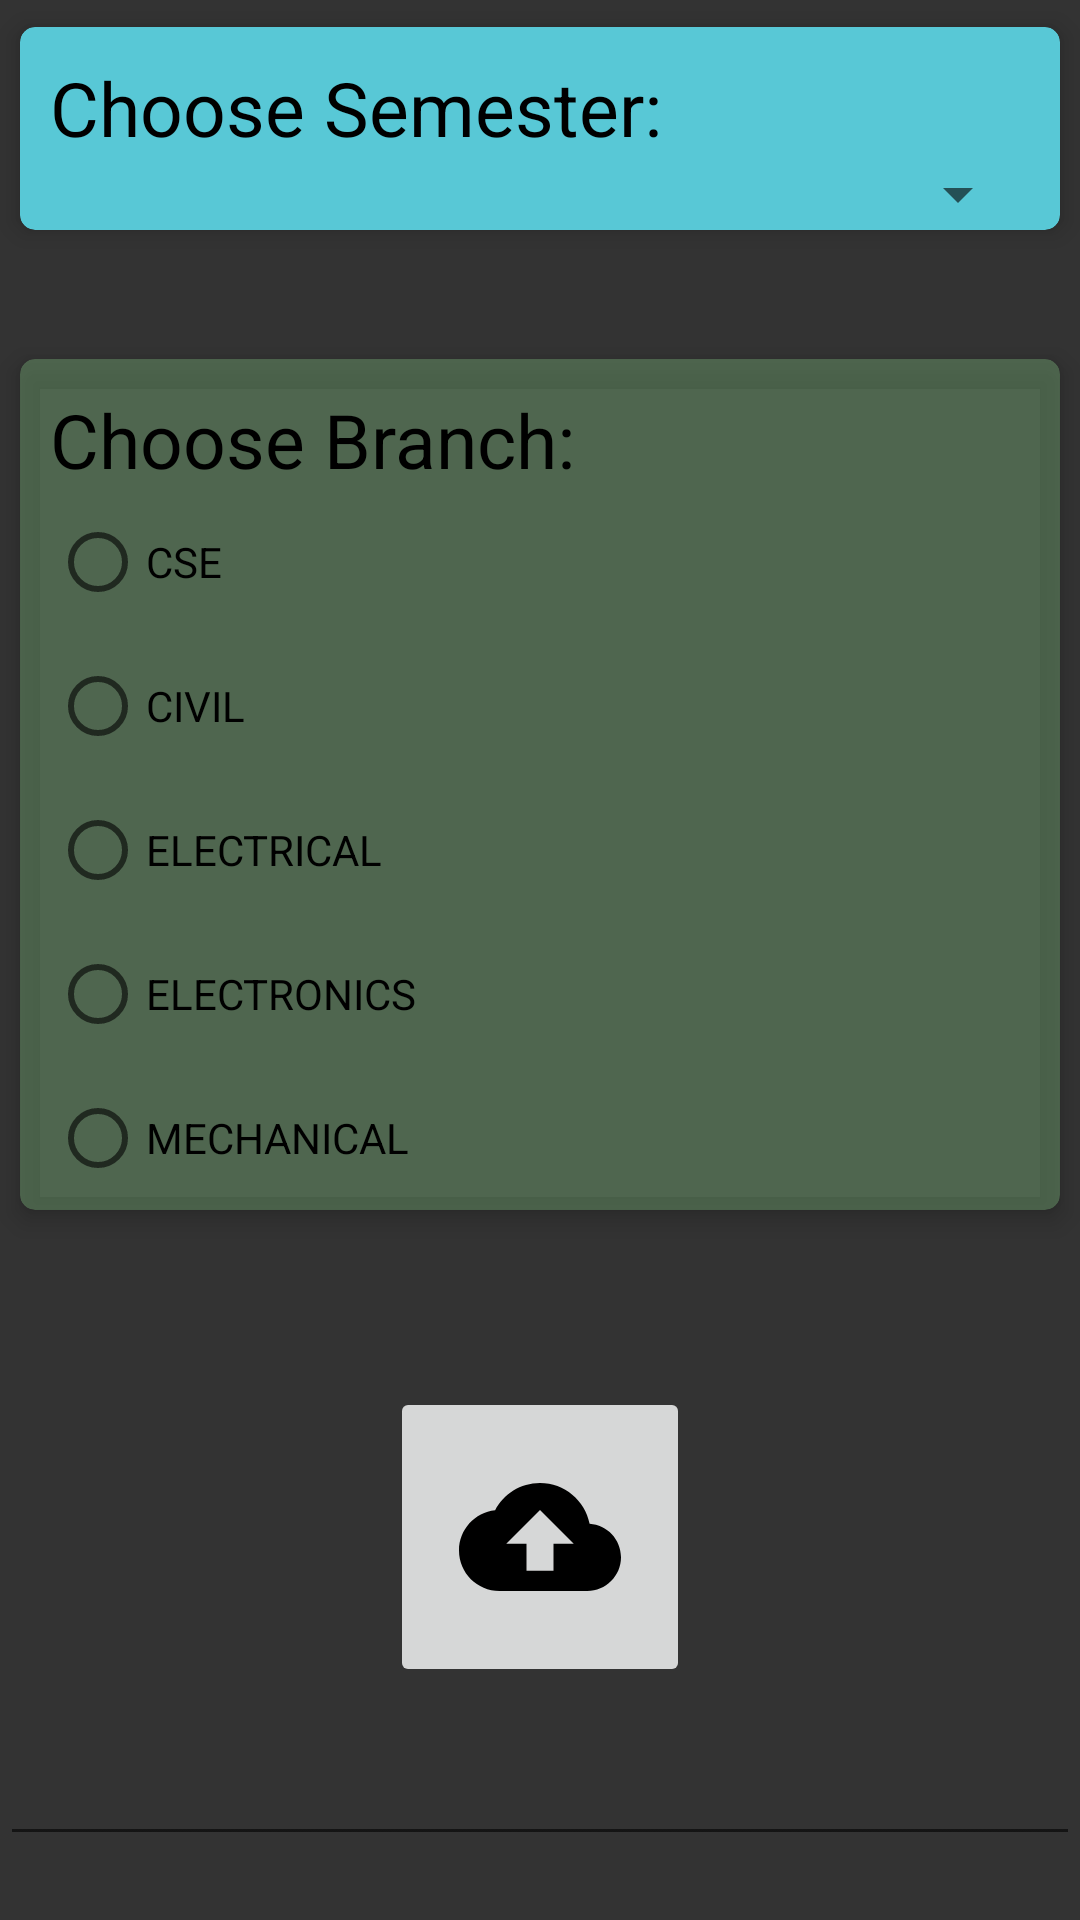

Named icons in this screenshot (1080×1920) and their bounding boxes, bbox=(x1, y1, x2, y2):
cloud upload: bbox=(402, 1405, 678, 1669)
